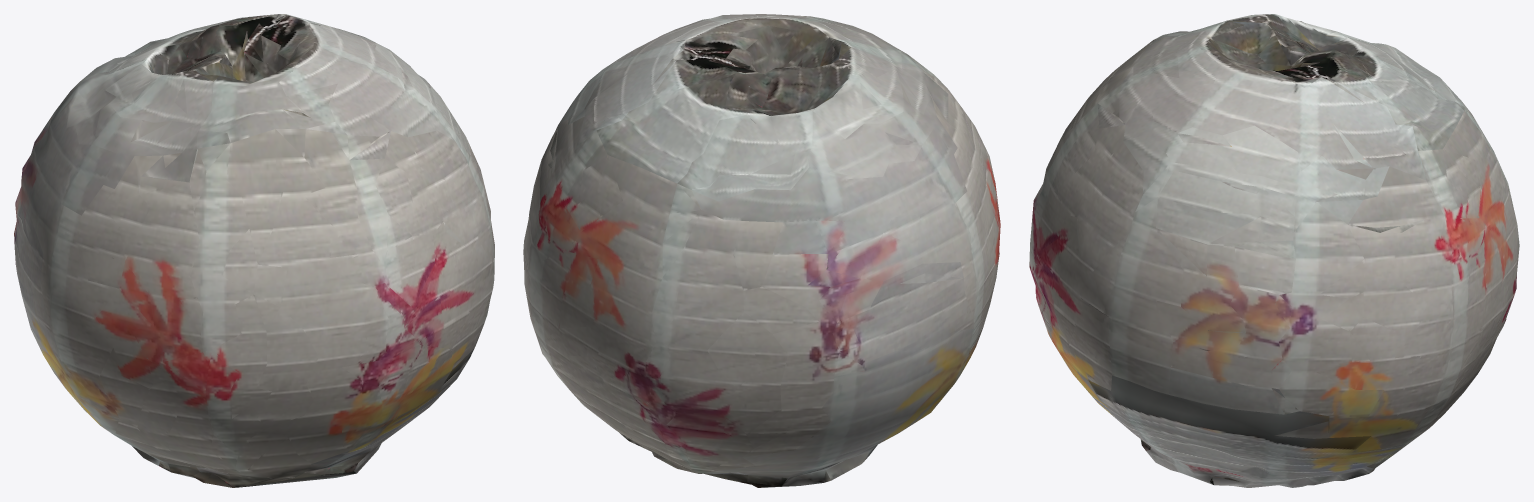
Rendered from Ah3 Zea Lim Fish.glb.
The picture shows the model from 3 angles, left to right: view 1: azimuth 30°, elevation 25°; view 2: azimuth 150°, elevation 25°; view 3: azimuth 270°, elevation 25°; orthographic projection.
Bounding box in the file's own units: 991 × 940 × 1000.
1 material, 1 textured.
